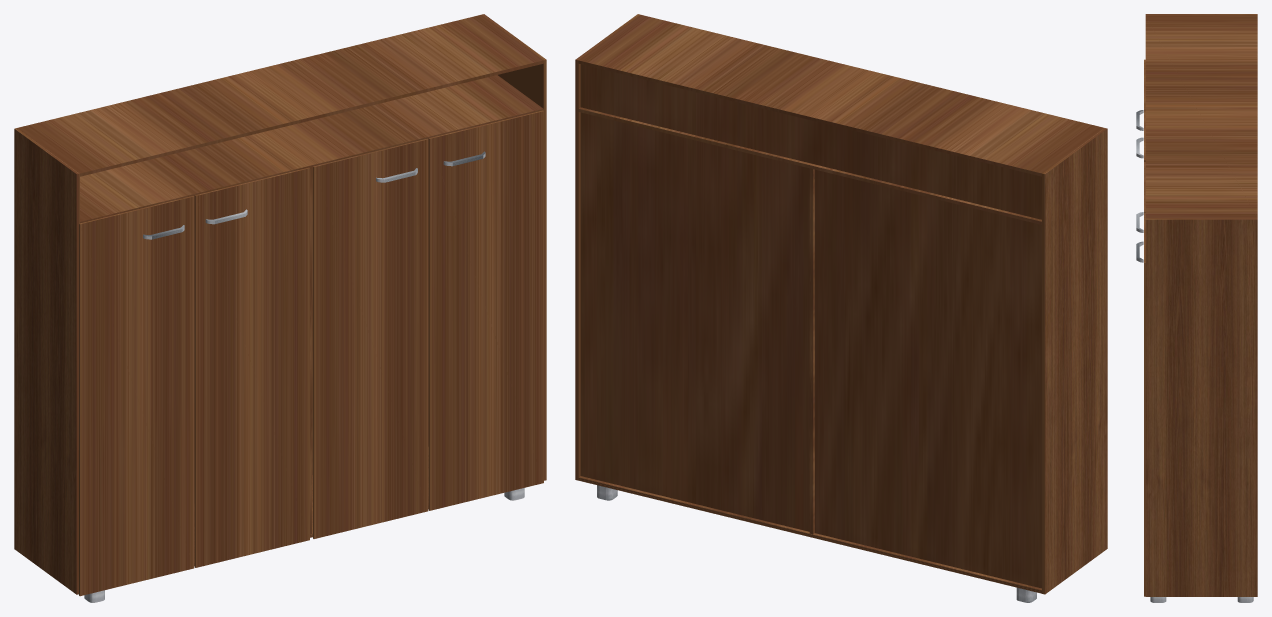
The model's file is MuebleM.fbx.
The picture shows the model from 3 angles, left to right: view 1: azimuth 30°, elevation 25°; view 2: azimuth 150°, elevation 25°; view 3: azimuth 270°, elevation 25°; orthographic projection. The views are drawn at different scales.
Visible parts, largest first — view 1: Cube.009, Cube; view 2: Cube.009; view 3: Cube.009, Cube.
Part boxes in pixels (<box>): Cube.009: <box>14,14,546,596</box>; Cube: <box>84,151,524,602</box>; Cube.009: <box>575,14,1107,594</box>; Cube.009: <box>1144,14,1257,596</box>; Cube: <box>1136,110,1253,602</box>.
Size of the model in its own units: 152 by 135 by 37.86.
